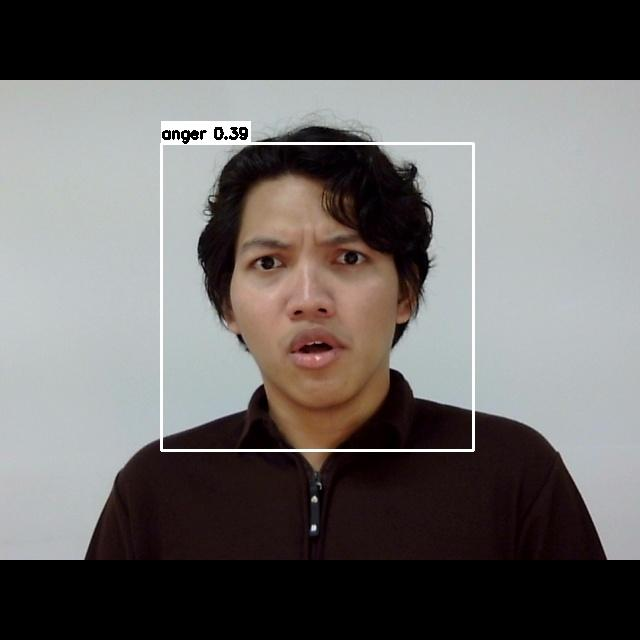Surprised: (211, 204, 410, 403)
